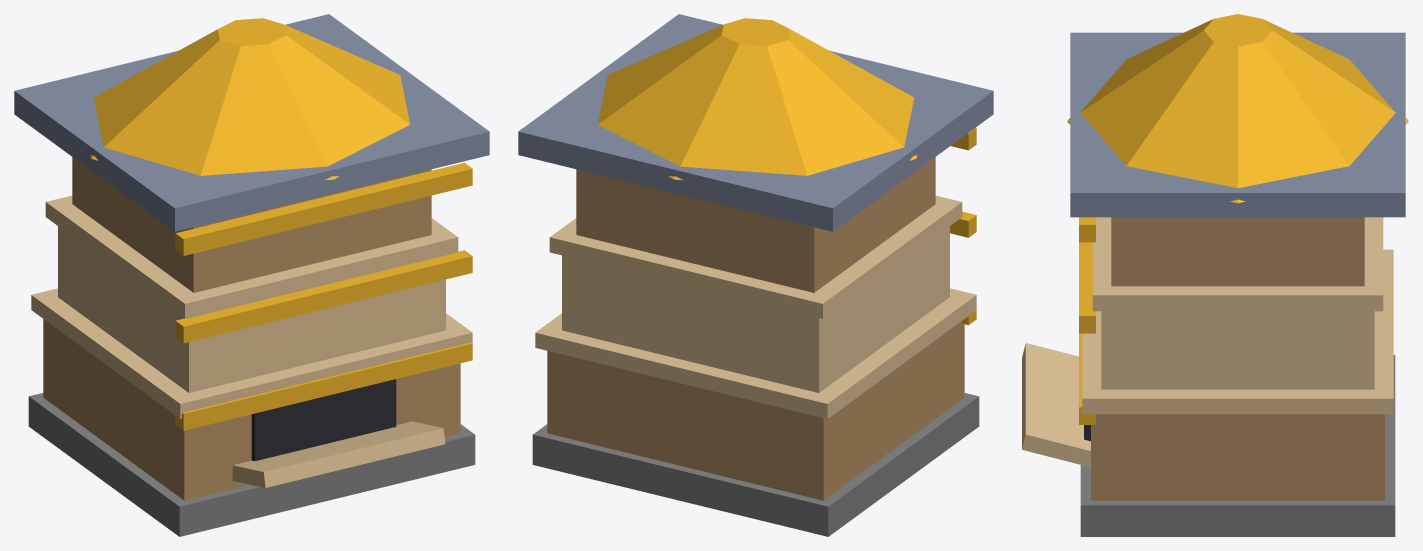
File: hive.glb
The picture shows the model from 3 angles, left to right: view 1: azimuth 30°, elevation 25°; view 2: azimuth 150°, elevation 25°; view 3: azimuth 270°, elevation 25°; orthographic projection. The views are drawn at different scales.
Parts seen in each view (by area): view 1: hive; view 2: hive; view 3: hive.
Part boxes in pixels (x1=…): hive: x1=14, y1=14, x2=489, y2=536; hive: x1=518, y1=14, x2=993, y2=536; hive: x1=1022, y1=14, x2=1408, y2=536.
Bounding box in the file's own units: 1 × 1.23 × 1.
